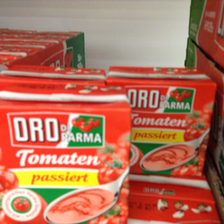tomato_sauce: (1, 81, 132, 224), (108, 63, 217, 178)
